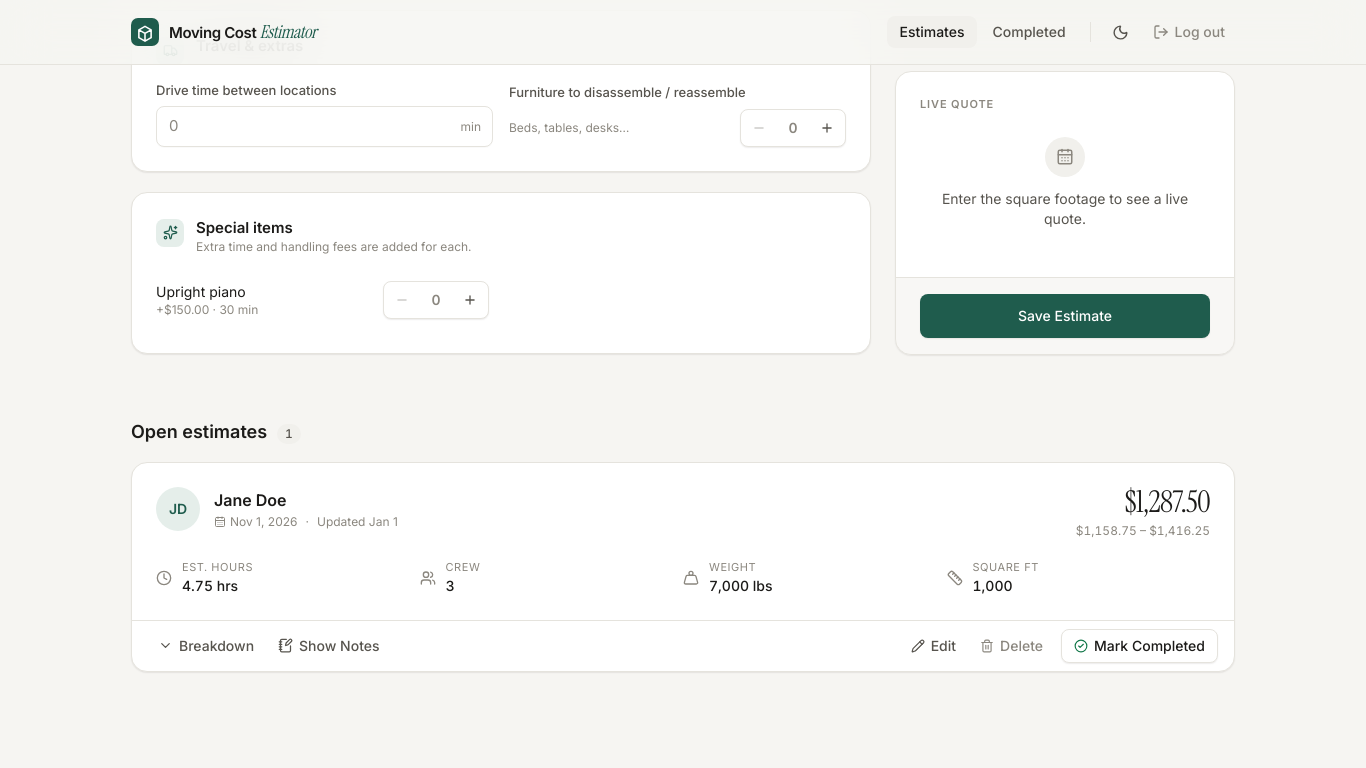
Scenario: Estimate page › shows the price breakdown for an estimate
(page scrolled)
Expected: the heading "Jane Doe" is shown, x1=214 y1=490 x2=286 y2=510
Step 1. Click the button "Breakdown" → (206, 646), box x1=148 y1=630 x2=264 y2=662
(page scrolled)
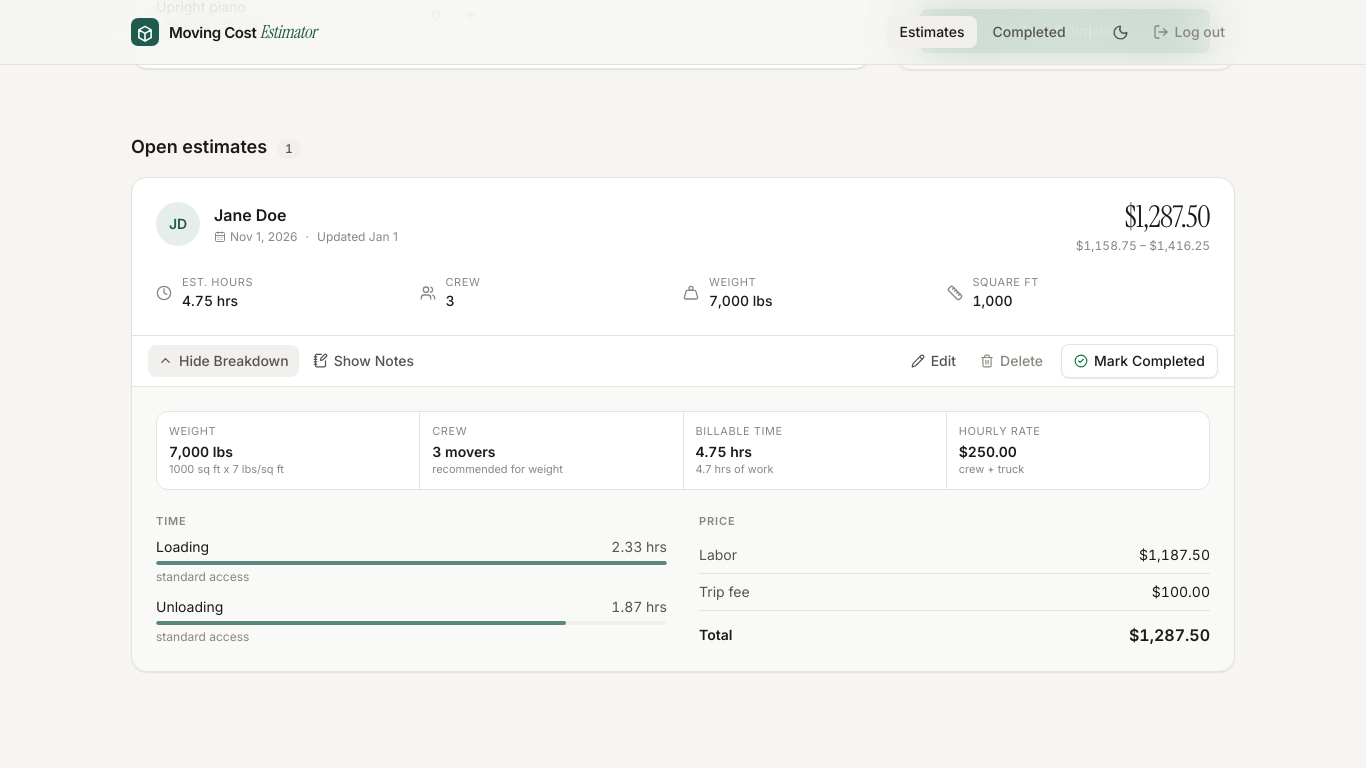
Expected: the text "Loading" is shown, x1=156 y1=537 x2=209 y2=557
Expected: the text "Trip fee" is shown, x1=699 y1=574 x2=922 y2=611
